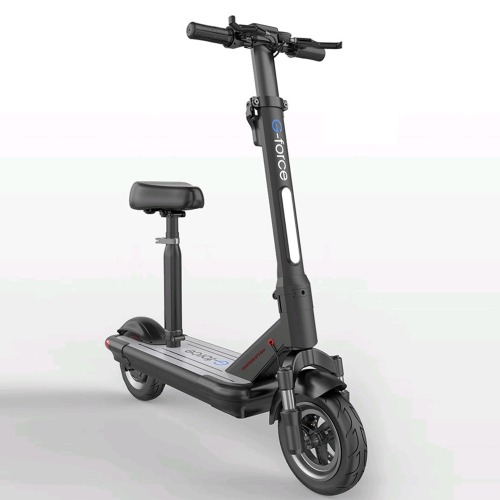kick_board: (109, 16, 369, 494)
kick_body: (119, 323, 288, 413)
kick_handler: (182, 13, 341, 63)
kick_neck: (245, 52, 320, 354)
kick_wheel: (272, 365, 368, 499), (109, 319, 168, 397)
